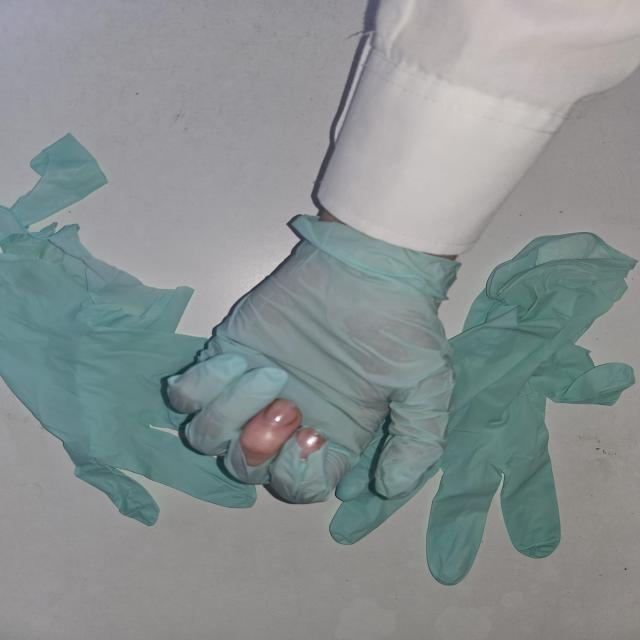gloves_damaged: (161, 199, 463, 504)
